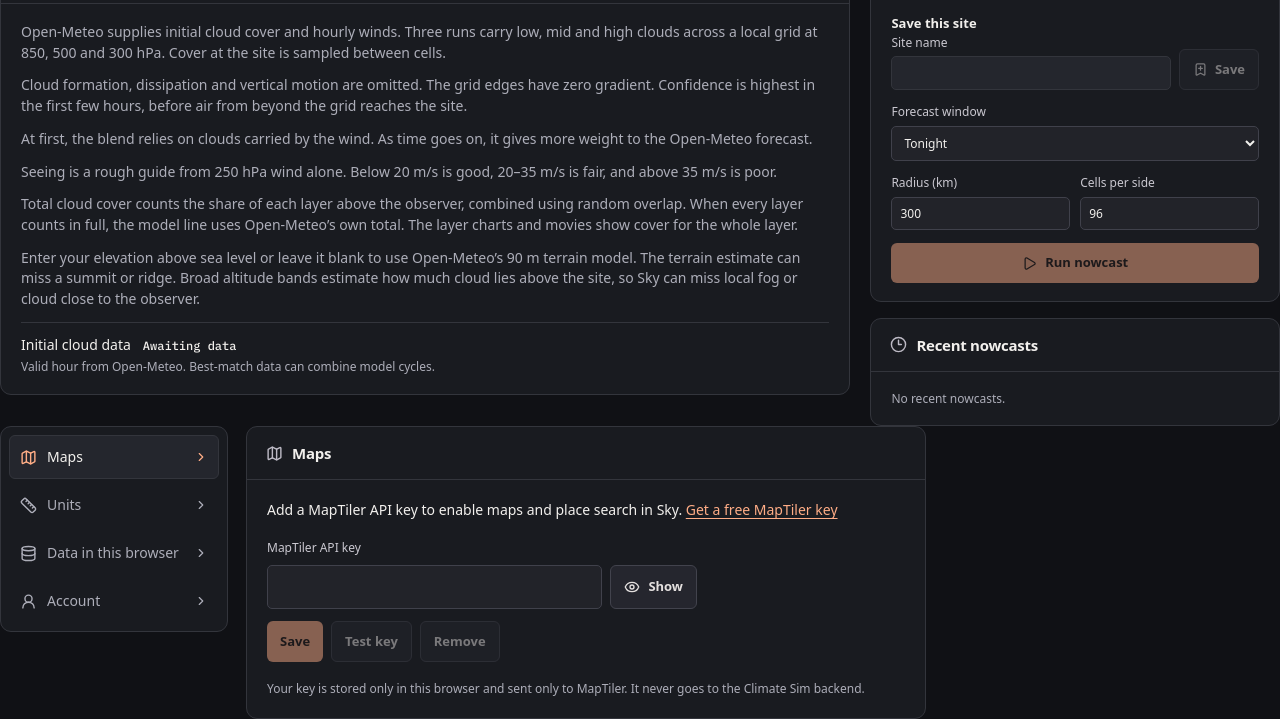
Test: keeps the key session usable when browser storage is blocked
The width and height of the screenshot is (1280, 719).
(page scrolled)
In the password field labelled "MapTiler API key": (435, 587) [267,565,602,609], type "example"
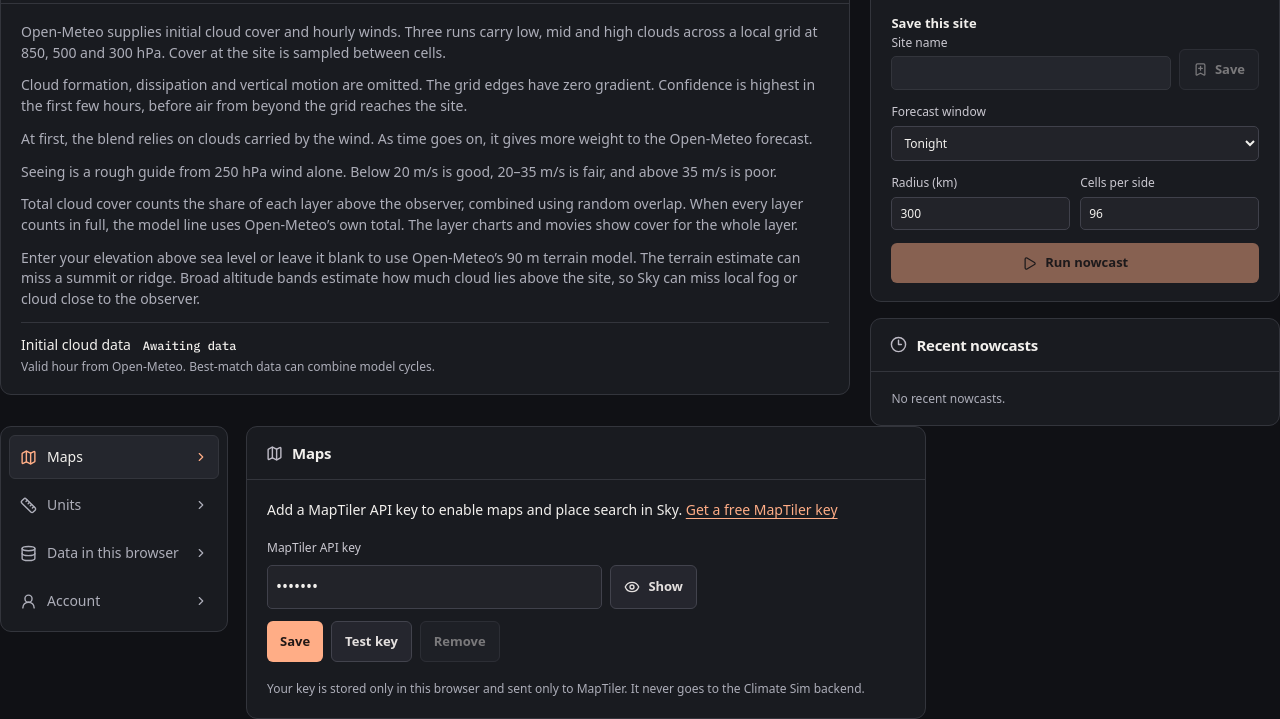
Click the 2nd button "Save": (295, 642) [267,621,323,662]
(page scrolled)
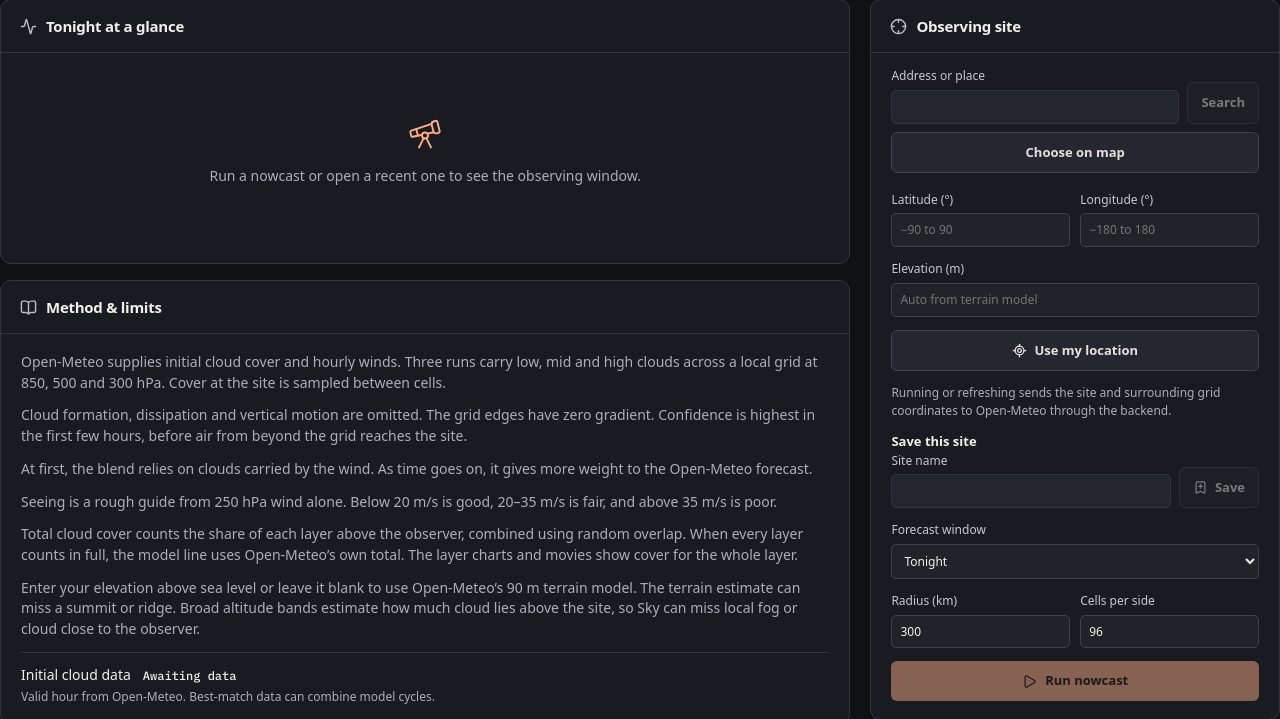
Expected: the search field labelled "Address or place" is shown, [891,90,1179,124]
